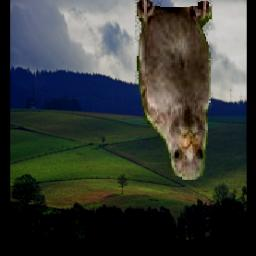Sparrow: (135, 0, 213, 181)
